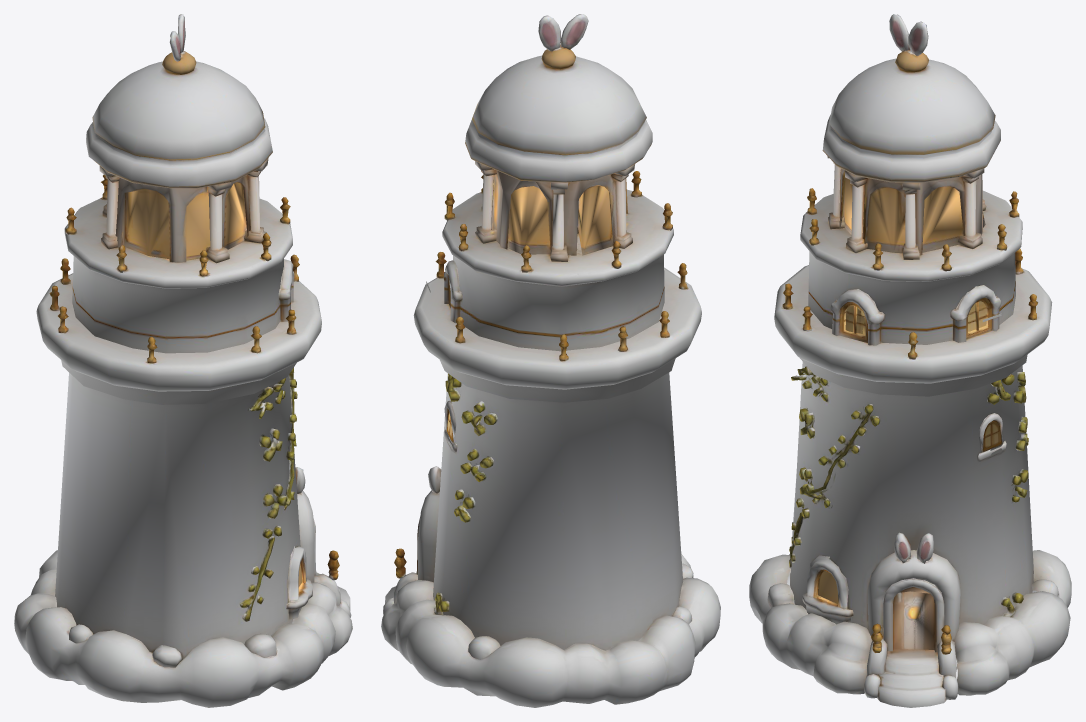
File: prop_tower.glb
3 views of the same model, side by side, from view 1: azimuth 30°, elevation 25°; view 2: azimuth 150°, elevation 25°; view 3: azimuth 270°, elevation 25° (orthographic). The views are drawn at different scales.
Visible parts, largest first — view 1: tripo_node_2959429a-38de-486b-a5d5-ccb79836d938; view 2: tripo_node_2959429a-38de-486b-a5d5-ccb79836d938; view 3: tripo_node_2959429a-38de-486b-a5d5-ccb79836d938.
Part boxes in pixels (x1,y1,x2,y2): tripo_node_2959429a-38de-486b-a5d5-ccb79836d938: [14, 14, 352, 707]; tripo_node_2959429a-38de-486b-a5d5-ccb79836d938: [381, 14, 720, 707]; tripo_node_2959429a-38de-486b-a5d5-ccb79836d938: [749, 14, 1071, 707].
Size of the model in its own units: 0.5046 by 0.998 by 0.474.
1 material, 1 textured.
